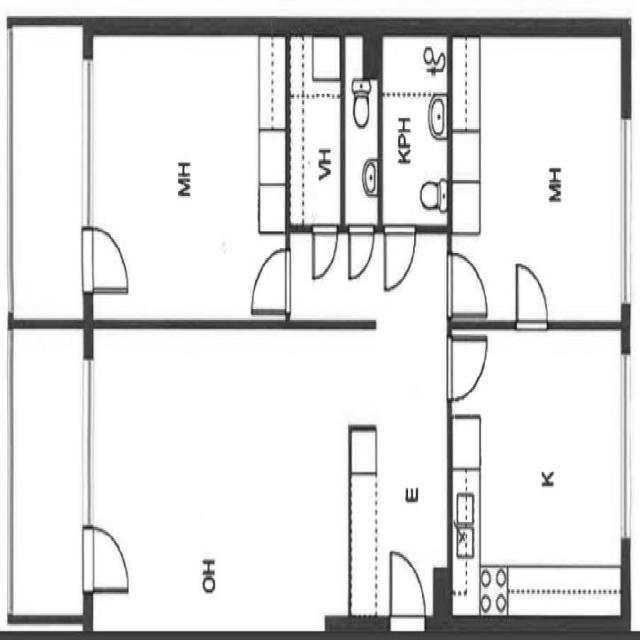door: (381, 546, 431, 639), (75, 215, 134, 292), (79, 516, 134, 596), (444, 243, 491, 322), (445, 331, 491, 406), (510, 259, 553, 332), (380, 218, 419, 296), (345, 223, 377, 284), (308, 224, 340, 284)
window: (342, 32, 380, 233), (615, 109, 637, 311), (615, 348, 636, 546), (78, 348, 99, 533), (77, 48, 98, 228)
zone: (91, 320, 354, 640), (87, 28, 287, 325), (448, 322, 628, 626), (449, 29, 630, 325), (8, 322, 90, 623), (345, 420, 450, 627), (383, 31, 450, 232), (288, 33, 342, 227), (248, 243, 290, 314)
